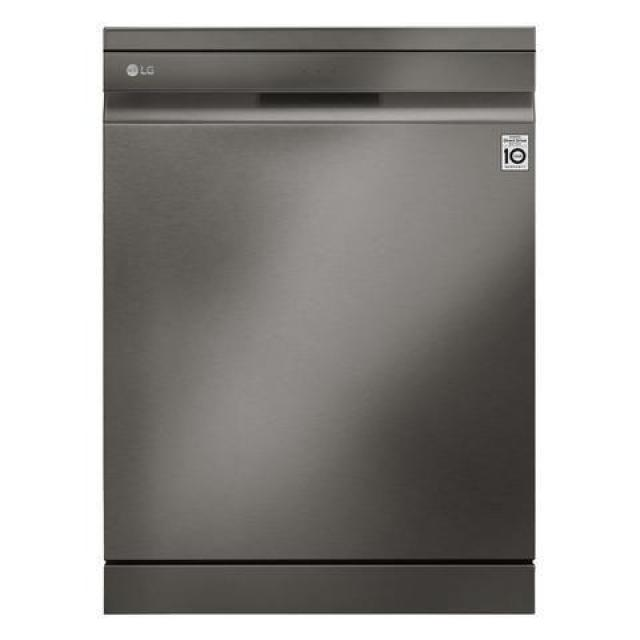dishwasher: (97, 23, 541, 615)
